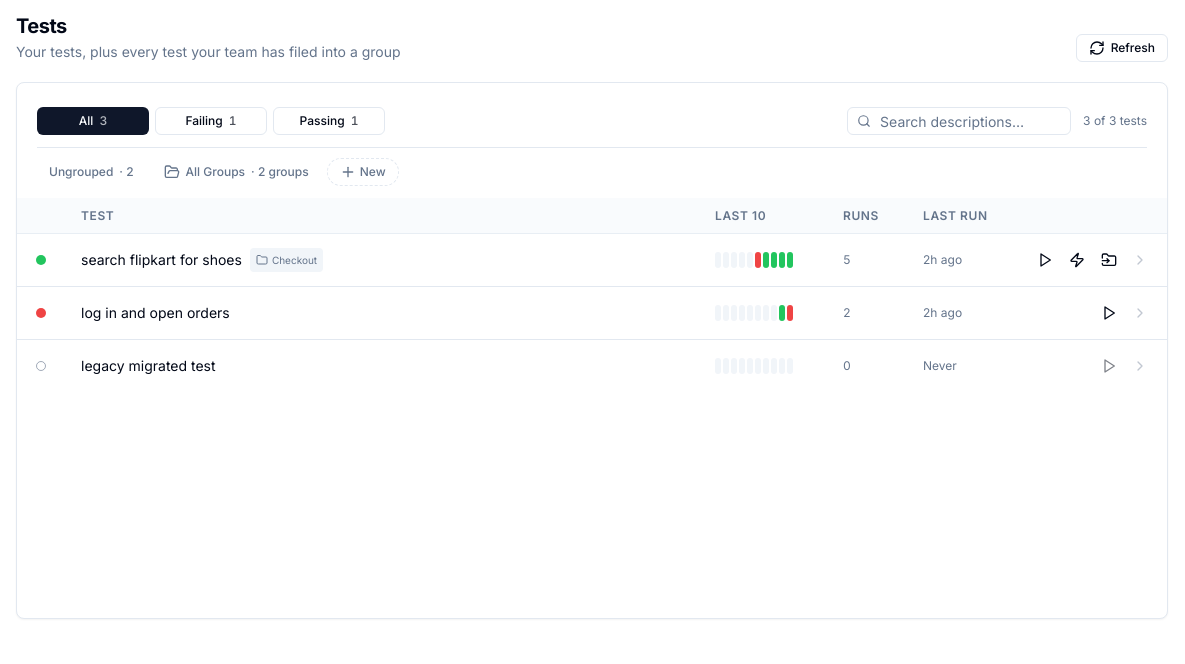
Test case: TestsPage — Run › says the connection dropped when the run stream ends after only running events
expect the button "search flipkart for shoes" is shown: met, box top-left (81, 250), bottom-right (242, 270)
Click the button named "Run search flipkart for shoes": (1045, 260) top-left (1031, 246), bottom-right (1059, 274)
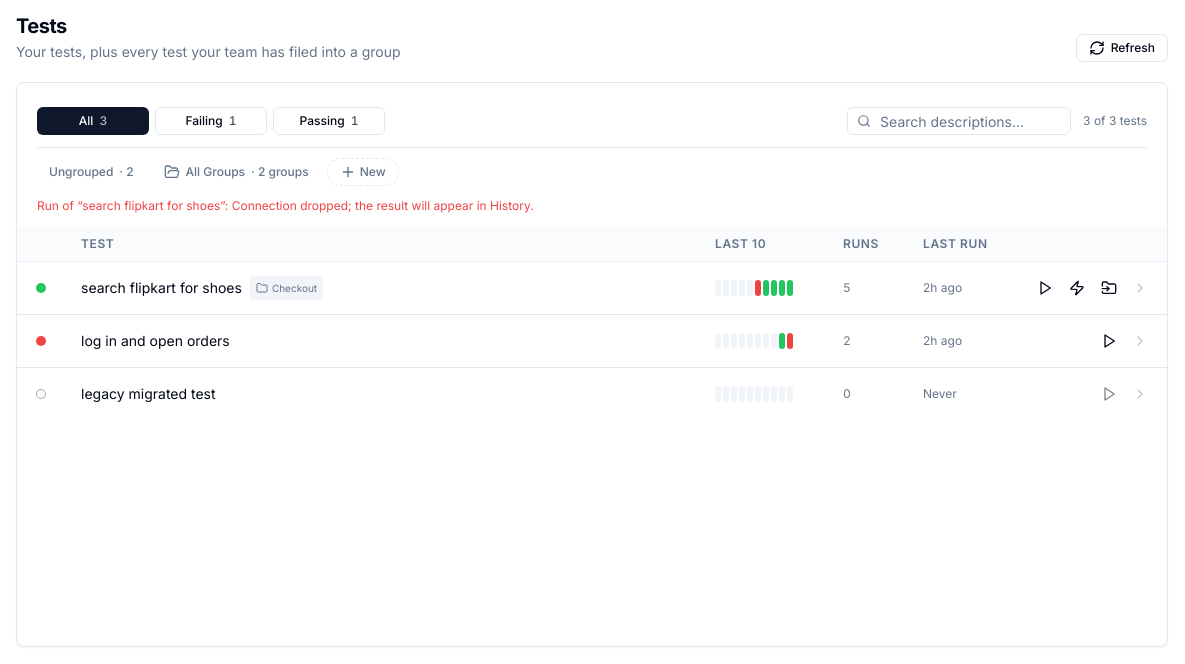
expect the text "Run of “search flipkart for shoes”: Connection dropped; the result will appear in History." is shown: met, box top-left (37, 198), bottom-right (534, 213)
